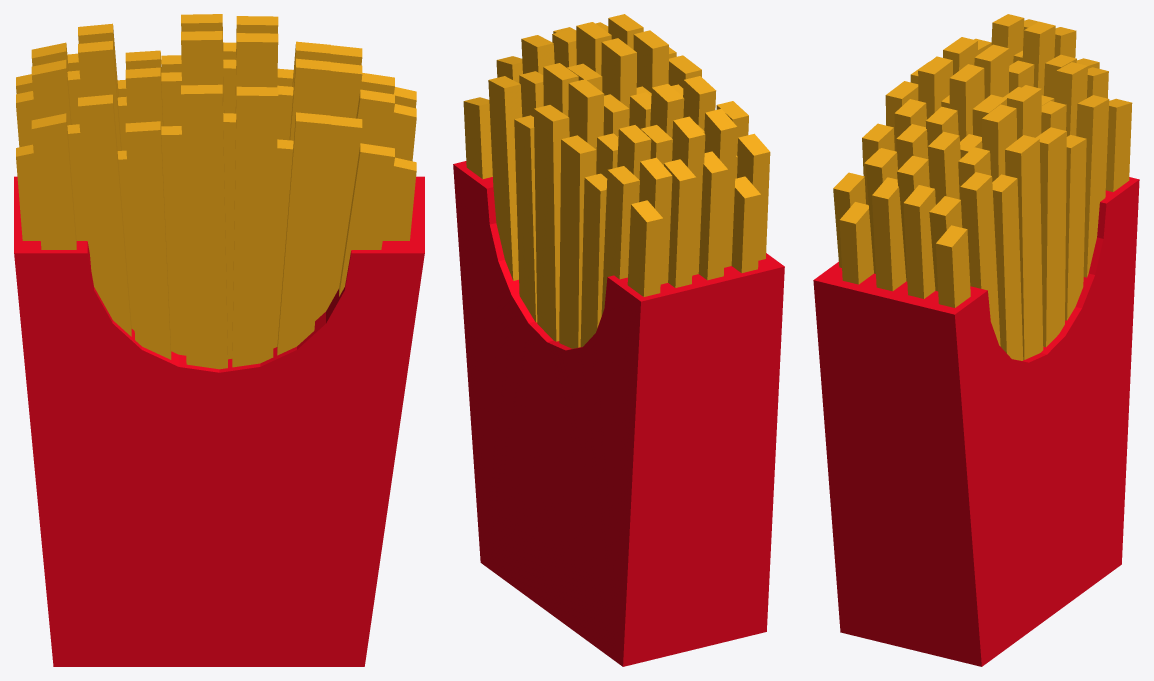
Rendered from Toy58.fbx.
3 renders of one model, left to right at view 1: azimuth 30°, elevation 25°; view 2: azimuth 150°, elevation 25°; view 3: azimuth 270°, elevation 25°, orthographic. The views are drawn at different scales.
Visible parts, largest first — view 1: Toy58; view 2: Toy58; view 3: Toy58.
Part boxes in pixels (left/top/right/bottom): Toy58: left=14, top=14, right=424, bottom=666; Toy58: left=453, top=14, right=784, bottom=666; Toy58: left=813, top=14, right=1139, bottom=666.
Size of the model in its own units: 0.1238 by 0.1854 by 0.1005.
